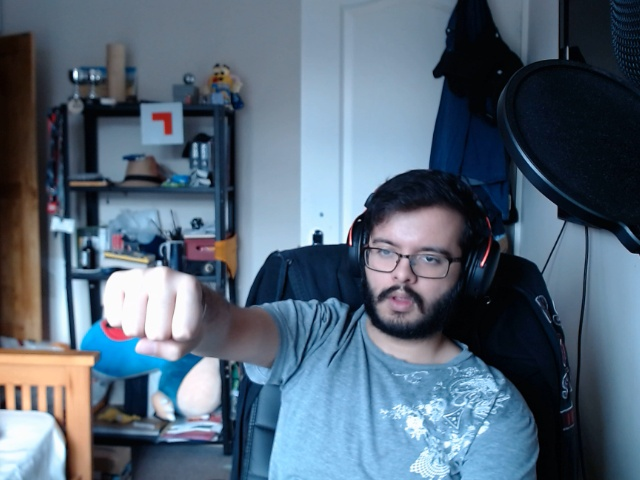Yes: (61, 254, 240, 356)
